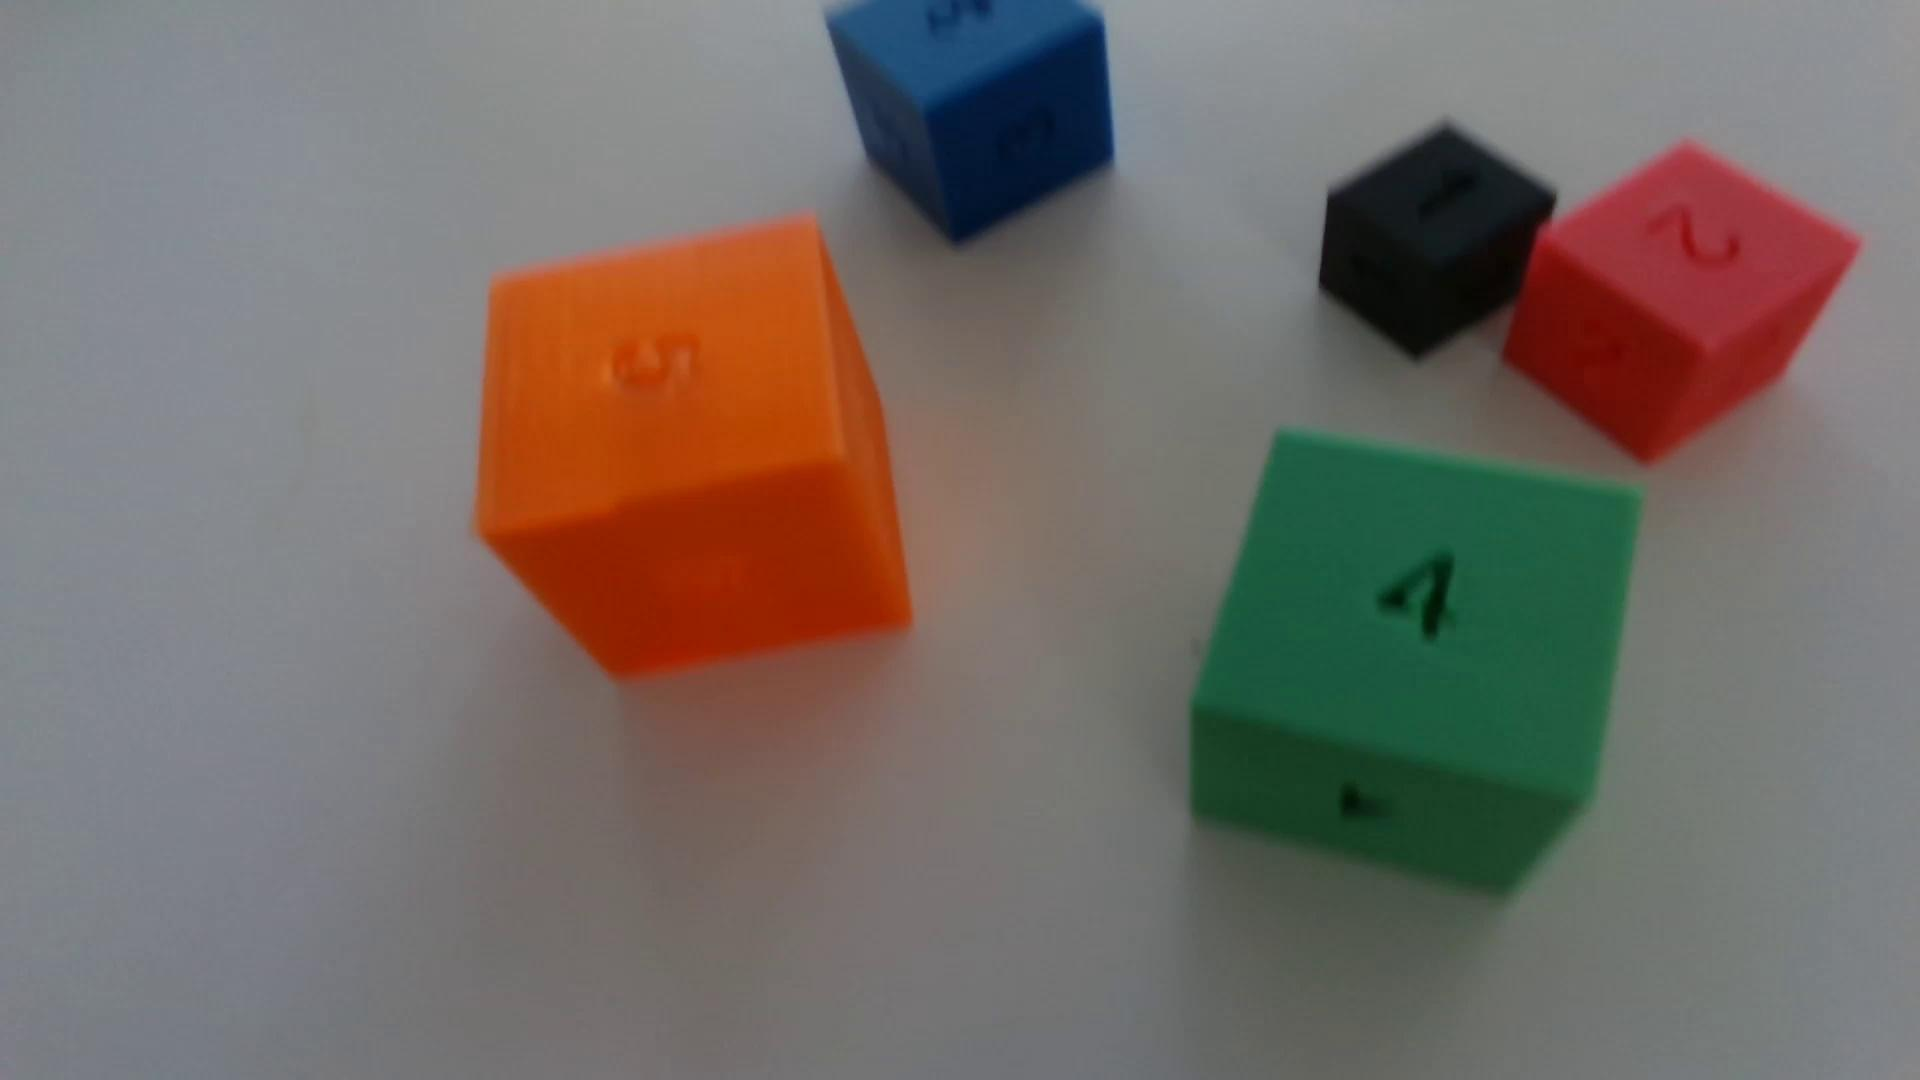black: (1317, 124, 1556, 359)
blue: (825, 0, 1114, 245)
green: (1189, 431, 1642, 894)
orange: (475, 219, 911, 678)
red: (1503, 145, 1859, 464)
